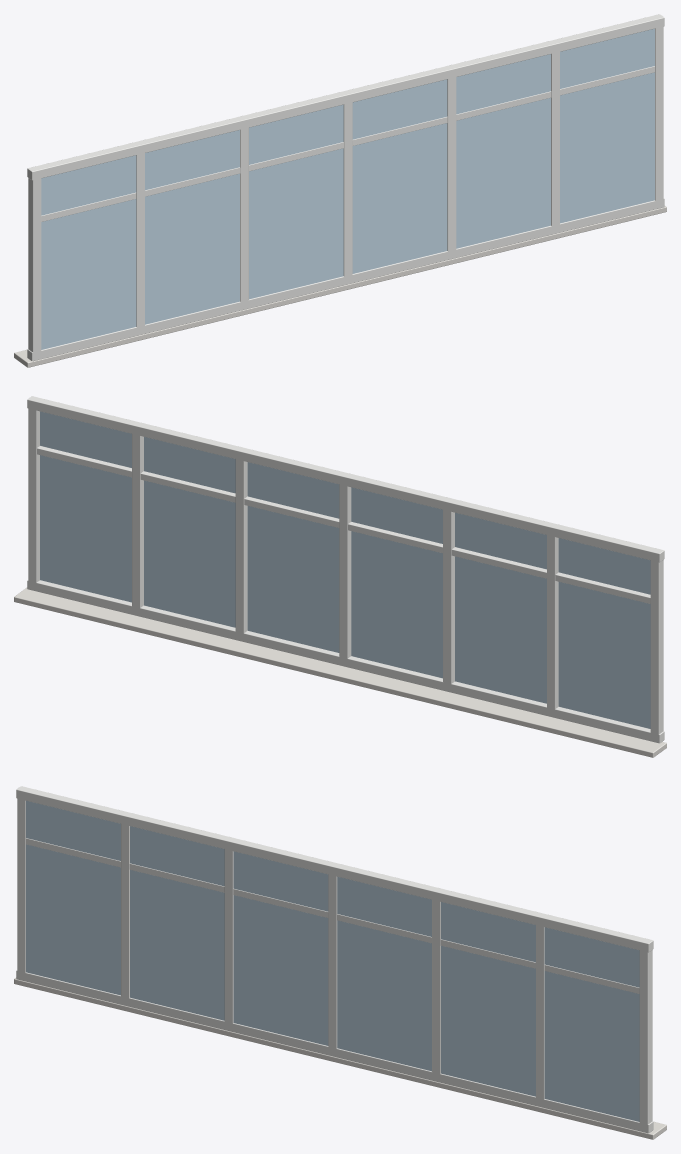
File: sala.ventana.fbx
3 views of the same model, one above another, from view 1: azimuth 30°, elevation 25°; view 2: azimuth 150°, elevation 25°; view 3: azimuth 330°, elevation 25° (orthographic).
Parts seen in each view (by area): view 1: Vidrio, Marco horizontal.001, Marco horizontal, Travesano, Alfeizar, Montante.006, Montante.002, Montante.003, Montante.001, Montante.005, Montante.004, Montante; view 2: Vidrio, Alfeizar, Marco horizontal.001, Marco horizontal, Travesano, Montante.006, Montante.002, Montante.003, Montante.004, Montante.005, Montante, Montante.001; view 3: Vidrio, Marco horizontal.001, Marco horizontal, Travesano, Alfeizar, Montante, Montante.004, Montante.003, Montante.001, Montante.006, Montante.005, Montante.002.
Boxes of the visible parts, left/top/right/bottom form: Vidrio: left=41, top=28, right=654, bottom=349; Marco horizontal.001: left=27, top=14, right=664, bottom=180; Marco horizontal: left=27, top=198, right=664, bottom=361; Travesano: left=41, top=66, right=654, bottom=221; Alfeizar: left=14, top=205, right=666, bottom=367; Montante.006: left=28, top=171, right=41, bottom=352; Montante.002: left=447, top=70, right=456, bottom=258; Montante.003: left=343, top=96, right=352, bottom=282; Montante.001: left=551, top=45, right=559, bottom=233; Montante.005: left=136, top=146, right=144, bottom=334; Montante.004: left=240, top=120, right=248, bottom=307; Montante: left=655, top=26, right=663, bottom=207; Vidrio: left=40, top=411, right=650, bottom=728; Alfeizar: left=14, top=587, right=666, bottom=757; Marco horizontal.001: left=27, top=396, right=664, bottom=562; Marco horizontal: left=27, top=580, right=664, bottom=743; Travesano: left=37, top=446, right=650, bottom=603; Montante.006: left=650, top=553, right=663, bottom=741; Montante.002: left=235, top=452, right=247, bottom=640; Montante.003: left=339, top=477, right=351, bottom=665; Montante.004: left=443, top=502, right=454, bottom=691; Montante.005: left=547, top=528, right=558, bottom=715; Montante: left=28, top=401, right=39, bottom=589; Montante.001: left=132, top=426, right=143, bottom=614; Vidrio: left=26, top=800, right=639, bottom=1121; Marco horizontal.001: left=16, top=786, right=653, bottom=952; Marco horizontal: left=16, top=970, right=653, bottom=1133; Travesano: left=26, top=838, right=639, bottom=993; Alfeizar: left=14, top=977, right=666, bottom=1139; Montante: left=639, top=943, right=652, bottom=1124; Montante.004: left=224, top=843, right=233, bottom=1024; Montante.003: left=328, top=870, right=337, bottom=1052; Montante.001: left=536, top=919, right=544, bottom=1106; Montante.006: left=17, top=791, right=25, bottom=979; Montante.005: left=121, top=817, right=129, bottom=1004; Montante.002: left=432, top=899, right=440, bottom=1074.
Size of the model in its own units: 3.7 by 1.09 by 0.15.
